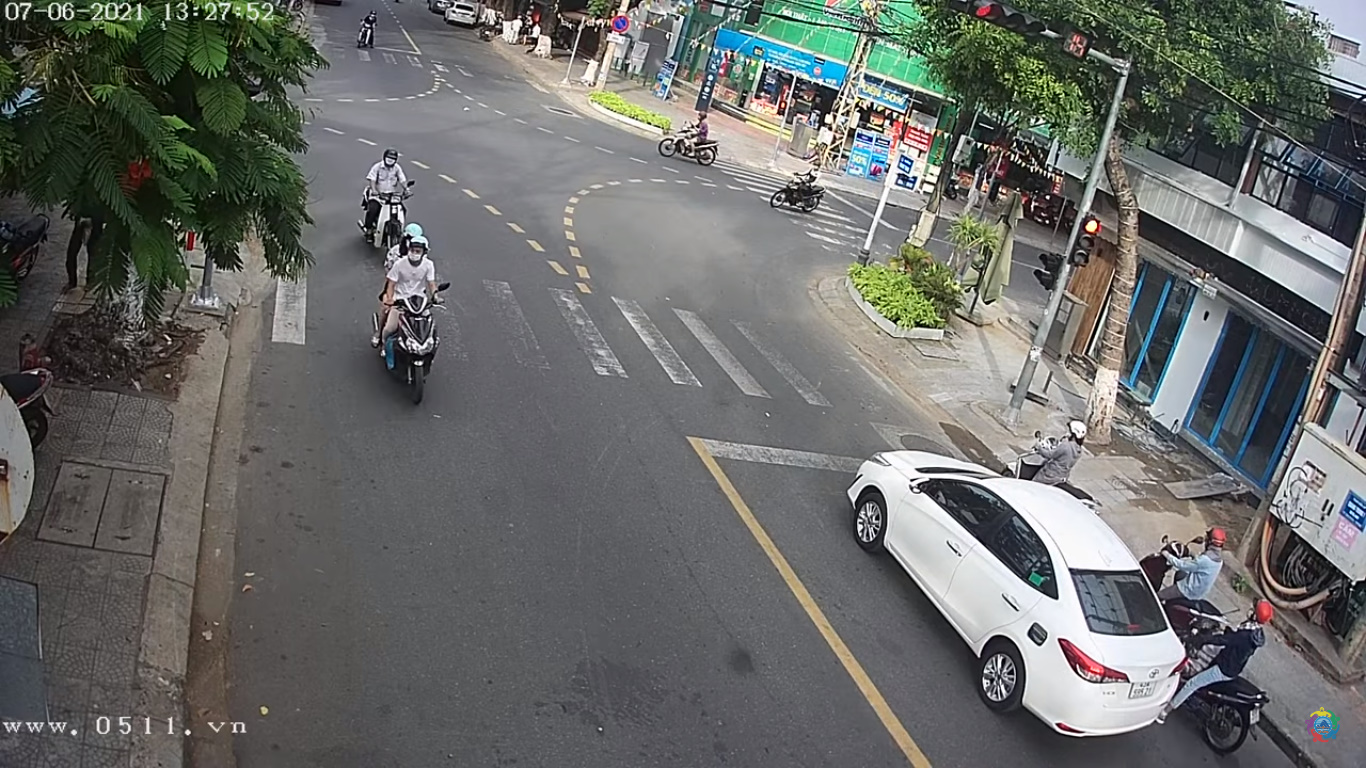motorbike: (374, 229, 460, 391), (358, 146, 407, 244)
